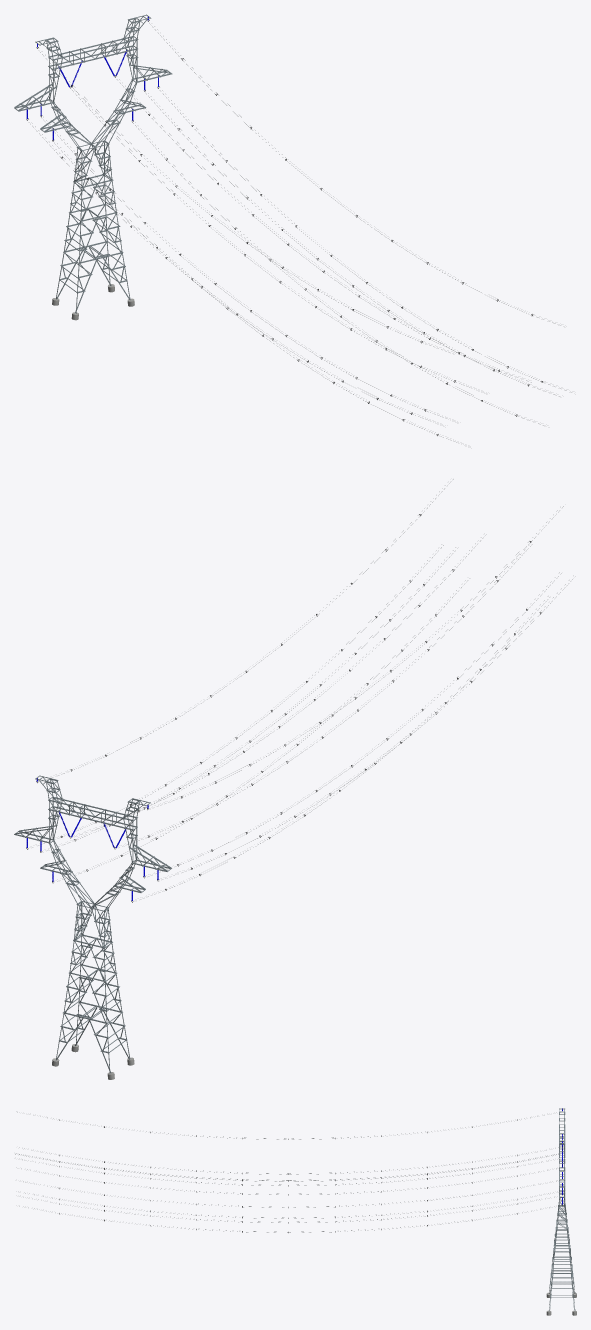
The model's file is PowerLine.fbx.
The picture shows the model from 3 angles, top to bottom: view 1: azimuth 30°, elevation 25°; view 2: azimuth 150°, elevation 25°; view 3: azimuth 270°, elevation 25°; orthographic projection. The views are drawn at different scales.
Parts seen in each view (by area): view 1: PowerLine, Cable; view 2: PowerLine, Cable; view 3: PowerLine, Cable.
Boxes of the visible parts, <box> form: PowerLine: <box>14,14,172,320</box>; Cable: <box>29,23,571,442</box>; PowerLine: <box>14,775,171,1079</box>; Cable: <box>32,479,575,899</box>; PowerLine: <box>546,1108,576,1315</box>; Cable: <box>15,1111,561,1232</box>.
Size of the model in its own units: 1417 by 2425 by 6868.
